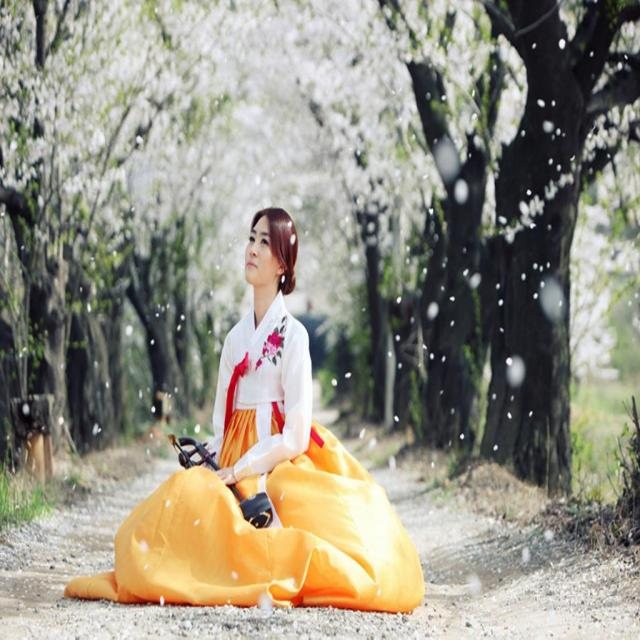nomask: (245, 218, 285, 288)
